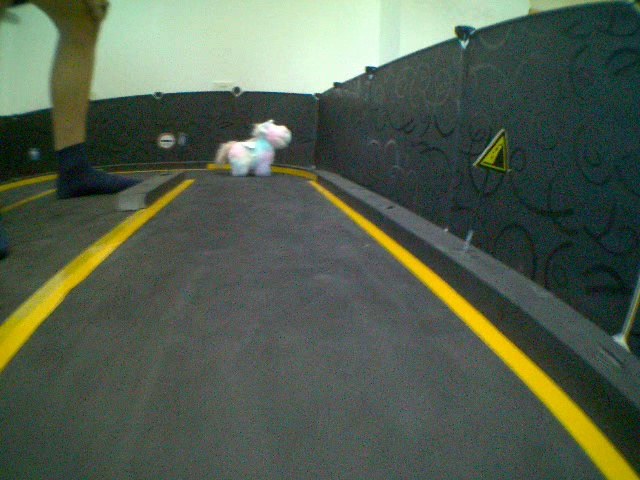unicorn: (215, 117, 292, 178)
